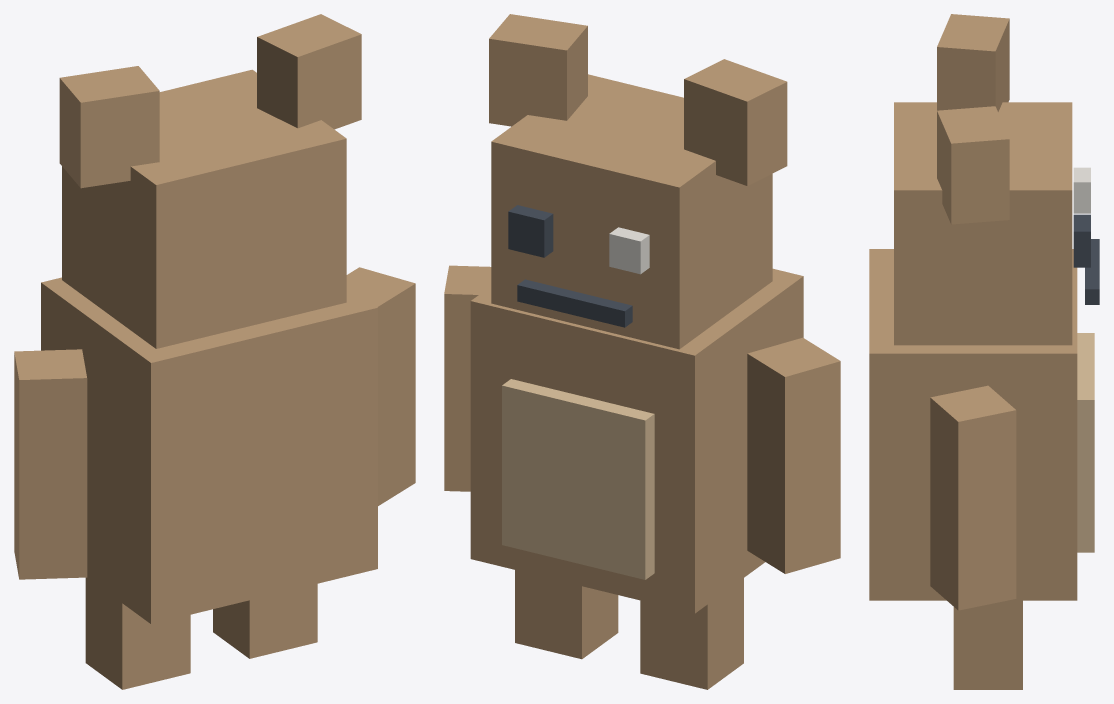
The model's file is horror_pelucia.glb.
3 views of the same model, side by side, from view 1: azimuth 30°, elevation 25°; view 2: azimuth 150°, elevation 25°; view 3: azimuth 270°, elevation 25° (orthographic). The views are drawn at different scales.
Visible parts, largest first — view 1: horror_pelucia_plush; view 2: horror_pelucia_plush, horror_pelucia_tan, horror_pelucia_dark, horror_pelucia_bone; view 3: horror_pelucia_plush, horror_pelucia_tan, horror_pelucia_dark, horror_pelucia_bone.
Boxes of the visible parts, left/top/right/bottom form: horror_pelucia_plush: left=14, top=14, right=415, bottom=689; horror_pelucia_plush: left=444, top=14, right=840, bottom=689; horror_pelucia_tan: left=502, top=379, right=654, bottom=579; horror_pelucia_dark: left=508, top=205, right=632, bottom=327; horror_pelucia_bone: left=609, top=227, right=649, bottom=274; horror_pelucia_plush: left=869, top=14, right=1077, bottom=689; horror_pelucia_tan: left=1077, top=333, right=1094, bottom=552; horror_pelucia_dark: left=1073, top=214, right=1099, bottom=304; horror_pelucia_bone: left=1073, top=167, right=1090, bottom=213.
Size of the model in its own units: 0.8736 by 1.26 by 0.465.
